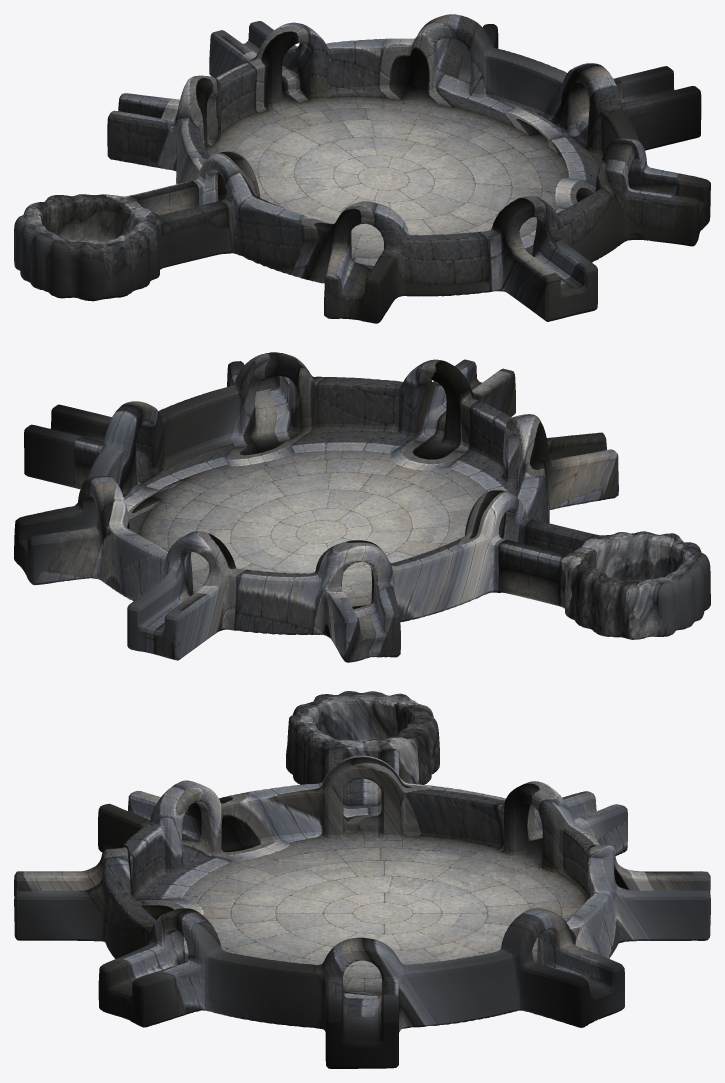
Rendered from carousel-hub-color-v1.glb.
3 renders of one model, top to bottom at view 1: azimuth 30°, elevation 25°; view 2: azimuth 150°, elevation 25°; view 3: azimuth 270°, elevation 25°, orthographic. The views are drawn at different scales.
Visible parts, largest first — view 1: geometry_0; view 2: geometry_0; view 3: geometry_0.
Part boxes in pixels (bbox=[...]): geometry_0: bbox=[14, 14, 710, 323]; geometry_0: bbox=[14, 352, 710, 662]; geometry_0: bbox=[14, 691, 710, 1068].
Size of the model in its own units: 1.99 by 0.2378 by 1.78.
1 material, 1 textured.
